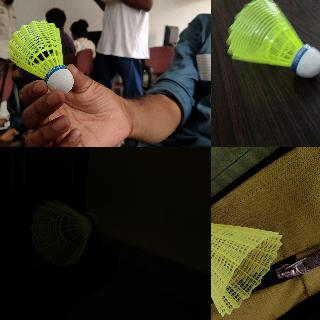shuttlecock: (211, 209, 283, 316), (225, 0, 319, 79), (8, 20, 74, 94), (30, 201, 100, 265)
